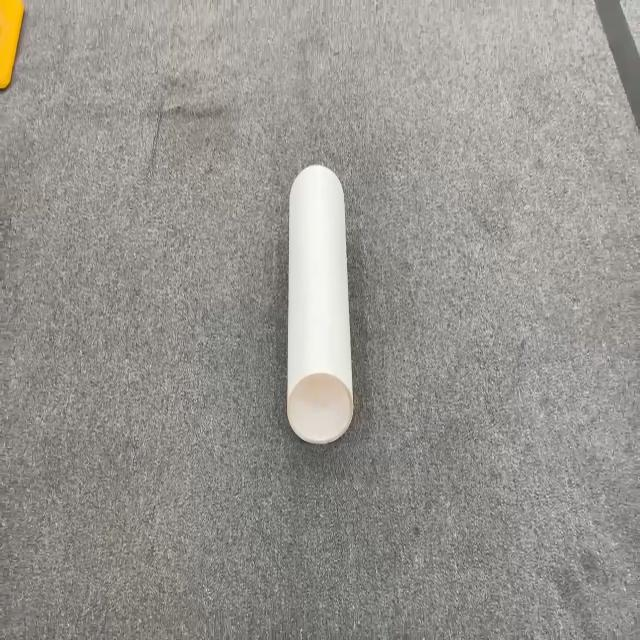coral: (286, 162, 354, 444)
